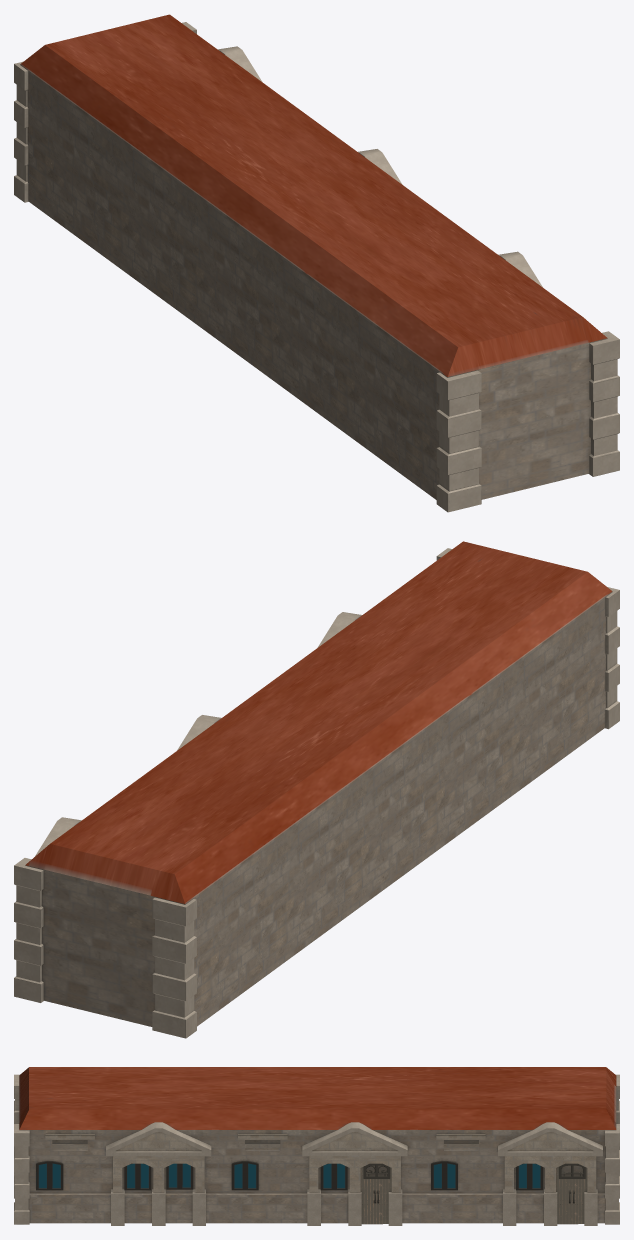
File: Bat_VieuxPort_5.fbx
3 views of the same model, one above another, from view 1: azimuth 30°, elevation 25°; view 2: azimuth 150°, elevation 25°; view 3: azimuth 270°, elevation 25° (orthographic). The views are drawn at different scales.
Visible parts, largest first — view 1: Bat_VieuxP_5; view 2: Bat_VieuxP_5; view 3: Bat_VieuxP_5.
Part boxes in pixels (x1,y1,x2,y2): Bat_VieuxP_5: (14, 14, 619, 512); Bat_VieuxP_5: (14, 541, 619, 1038); Bat_VieuxP_5: (14, 1067, 619, 1225).
Size of the model in its own units: 778 by 641 by 3309.
